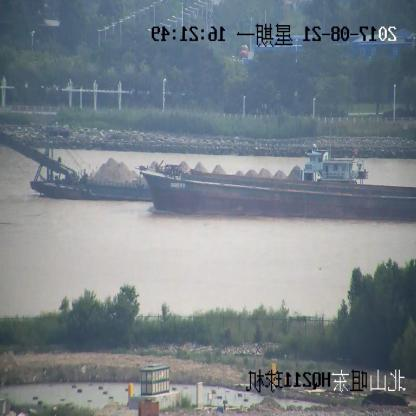Bulk Carrier: (140, 166, 415, 224)
